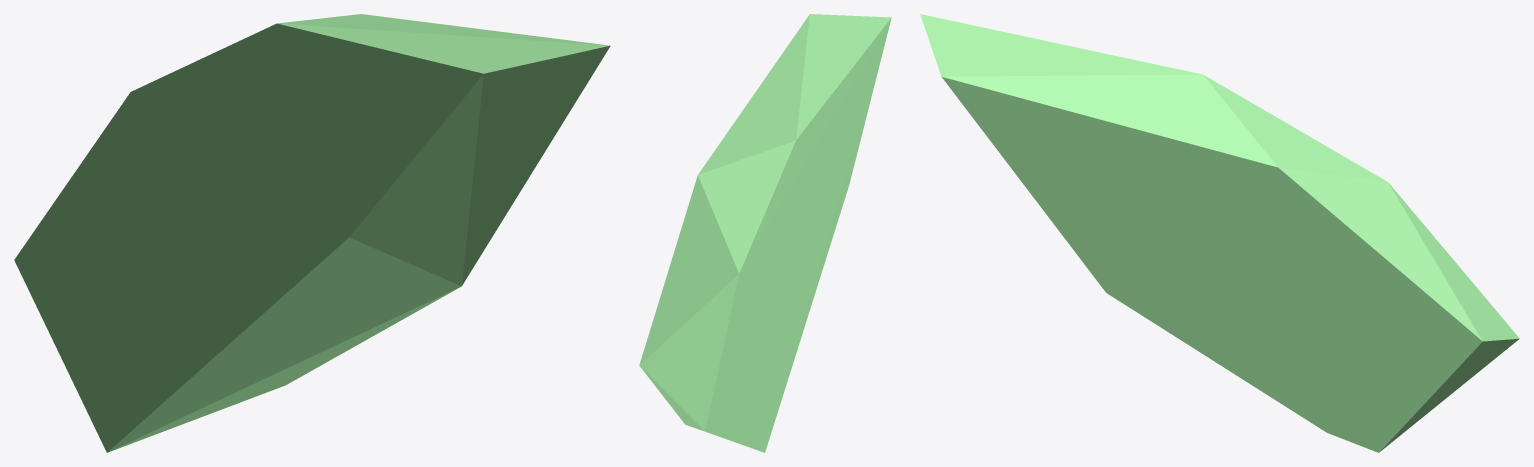
Rendered from UMIRobot_UMIRobot_link_5_convex_coll_57.dae.
3 views of the same model, side by side, from view 1: azimuth 30°, elevation 25°; view 2: azimuth 150°, elevation 25°; view 3: azimuth 270°, elevation 25° (orthographic). The views are drawn at different scales.
Parts seen in each view (by area): view 1: node; view 2: node; view 3: node.
Part boxes in pixels (box(x1,y1,x2,y2)): node: box(14, 14, 610, 452); node: box(639, 14, 891, 452); node: box(920, 14, 1519, 452).
Bounding box in the file's own units: 0.00278 × 0.0075 × 0.00953.
